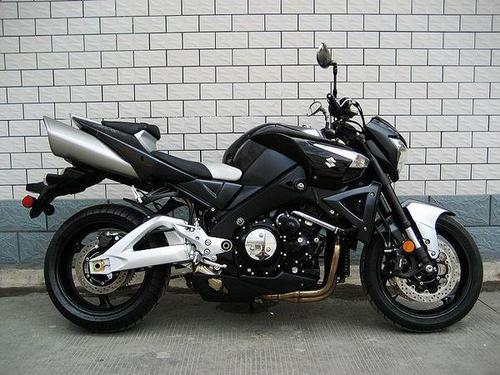motor: (34, 71, 479, 336)
